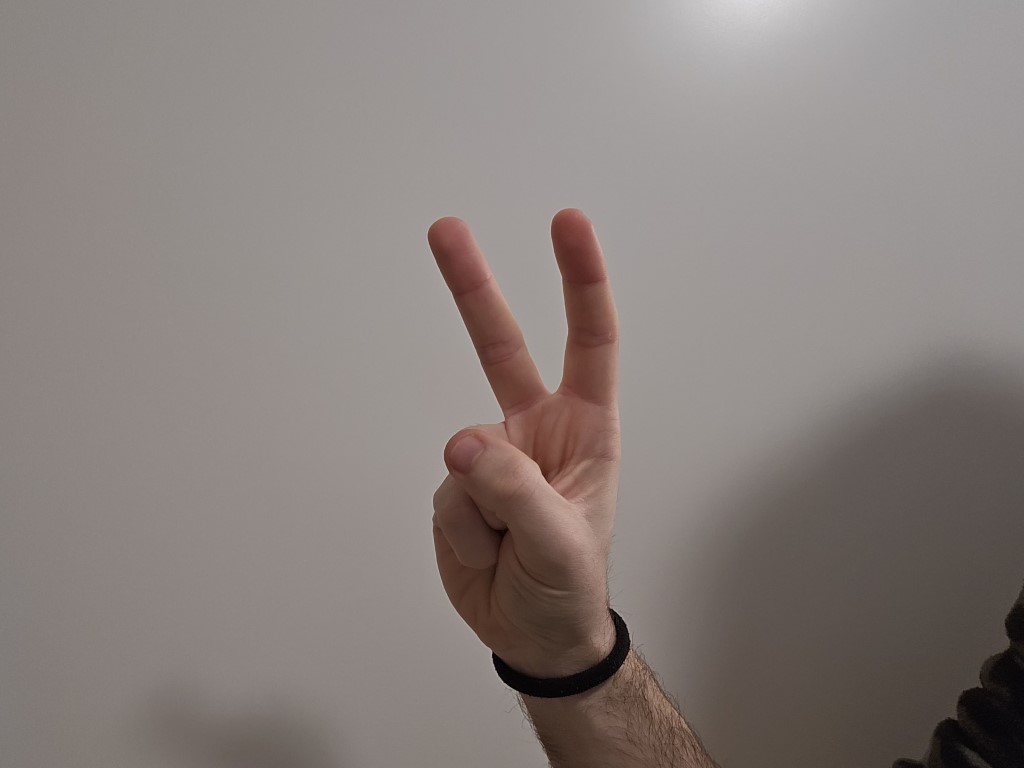v: (341, 201, 667, 658)
